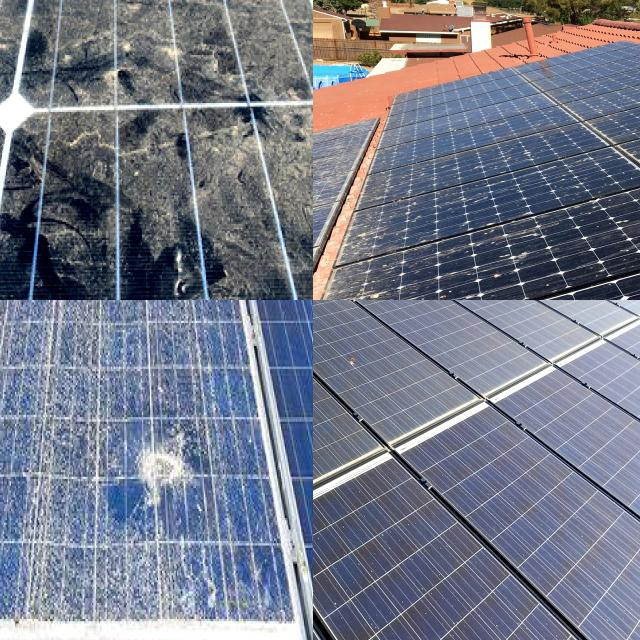dust: (13, 113, 313, 300), (61, 0, 313, 107), (333, 484, 438, 640), (0, 120, 86, 300), (474, 451, 613, 558), (65, 0, 313, 53), (313, 374, 376, 555), (0, 0, 94, 108), (503, 235, 640, 300), (0, 0, 84, 97), (83, 0, 313, 35), (385, 136, 453, 238), (346, 251, 467, 300), (313, 328, 346, 447), (313, 570, 369, 630)
hotspot: (118, 420, 211, 516)
